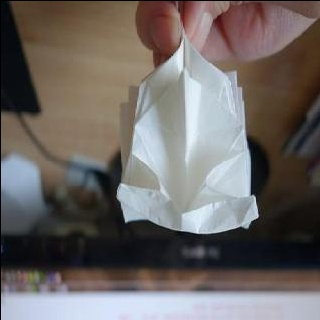8/可回收垃圾/纸: (117, 27, 260, 234)
